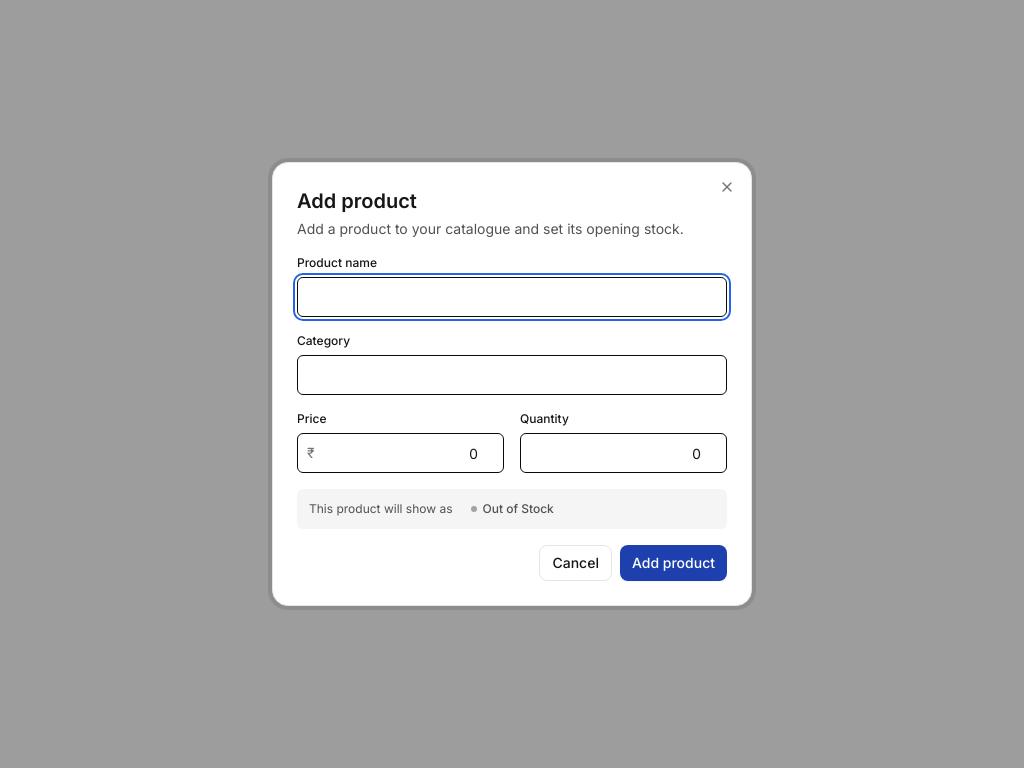
ProductFormDialog (create mode) › shows inline validation errors and sends no request for invalid input
Click the button "Add product".
click(674, 563)  # box [620,545,727,581]
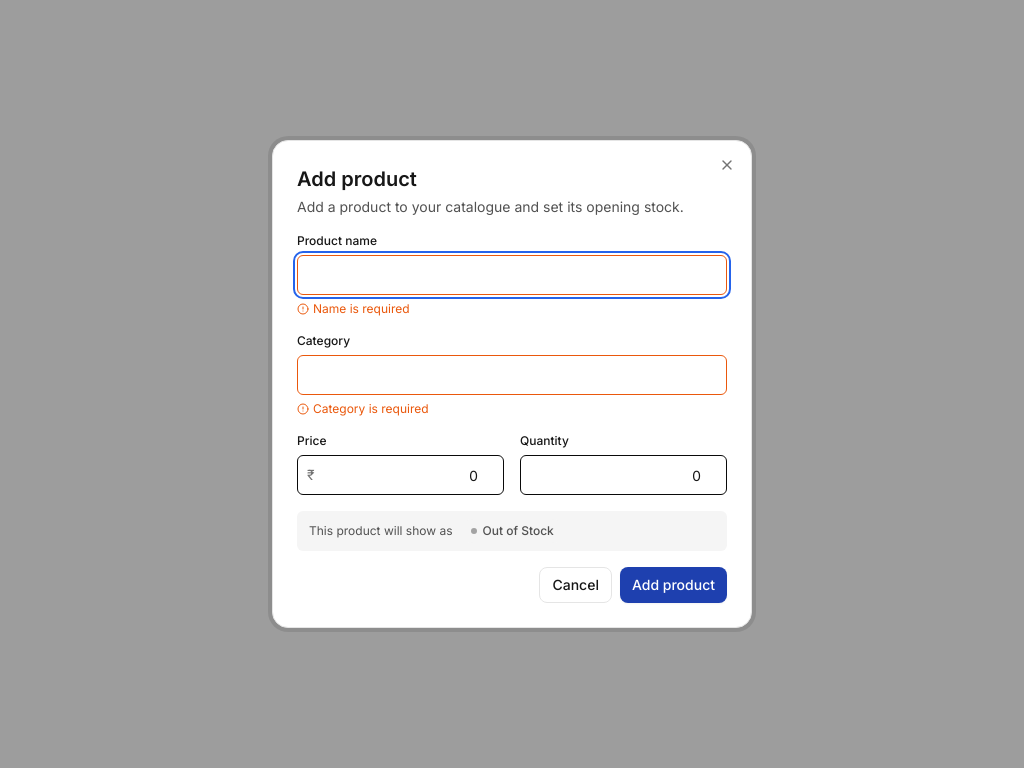
Check: the text "Name is required" is shown, box [297,301,410,316]
Check: the text "Category is required" is shown, box [297,401,429,416]
